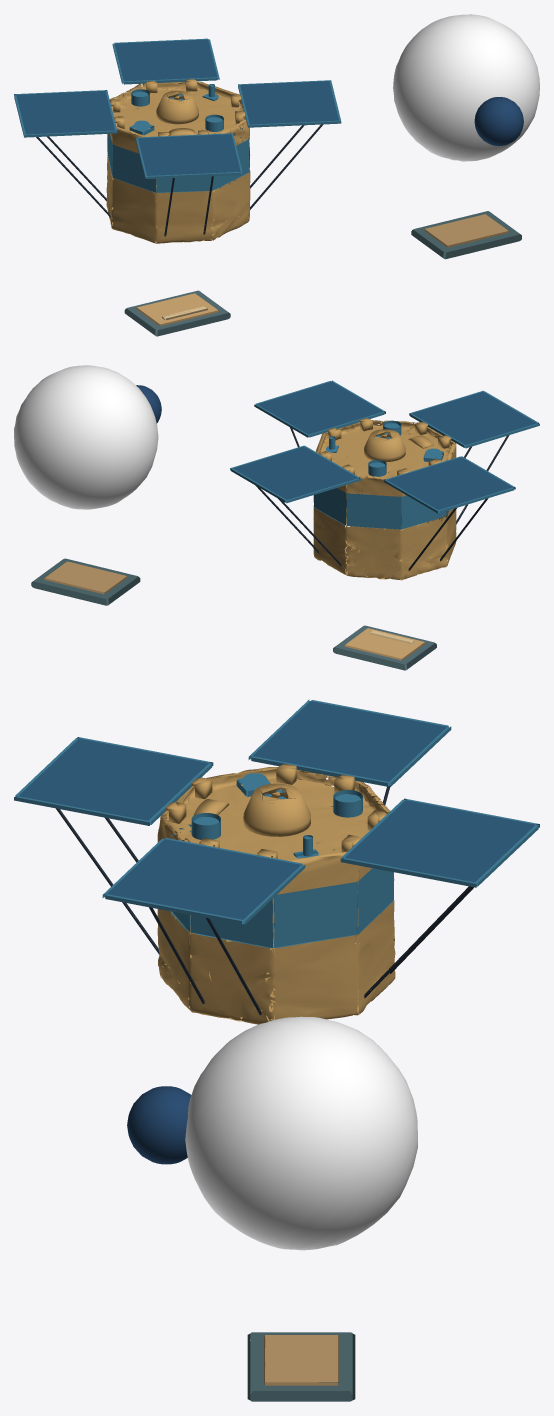
Rendered from kepler-telescopio.obj.
3 views of the same model, one above another, from view 1: azimuth 30°, elevation 25°; view 2: azimuth 150°, elevation 25°; view 3: azimuth 270°, elevation 25° (orthographic). The views are drawn at different scales.
Visible parts, largest first — view 1: kepler-telescopio; view 2: kepler-telescopio; view 3: kepler-telescopio.
Boxes of the visible parts, x1,y1,x2,y2 form: kepler-telescopio: (14, 14, 539, 336); kepler-telescopio: (14, 365, 539, 670); kepler-telescopio: (14, 699, 539, 1401).
Bounding box in the file's own units: 1.5 × 0.6264 × 0.8561.
